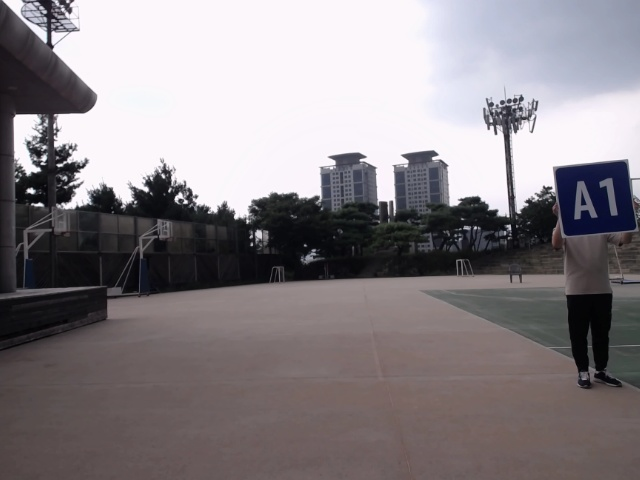delivery_a1: (554, 160, 636, 237)
